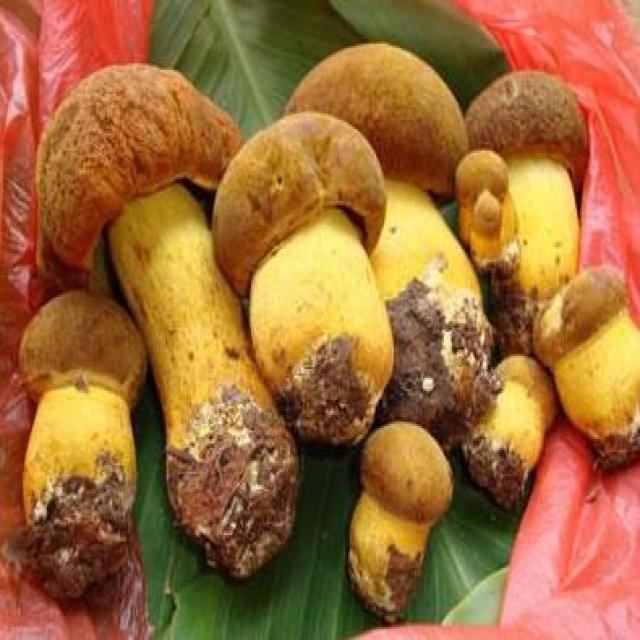Boletus: (39, 64, 298, 575), (285, 44, 486, 407), (213, 111, 392, 440), (18, 293, 149, 592), (464, 79, 598, 286), (539, 264, 640, 460), (353, 426, 448, 619), (472, 356, 552, 498)
